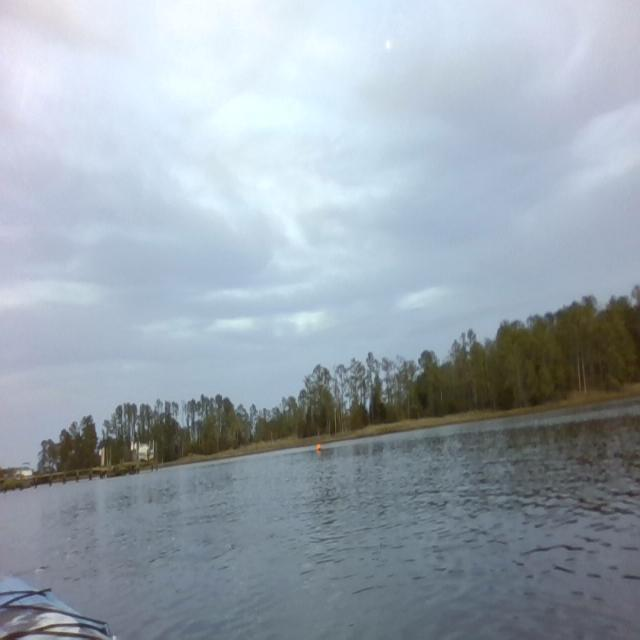Buoy: (315, 441, 322, 453)
